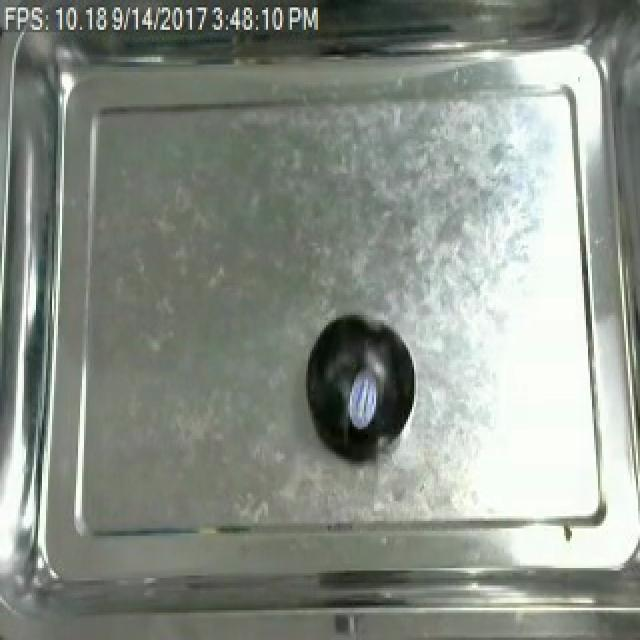Fruit: (298, 308, 420, 454)
